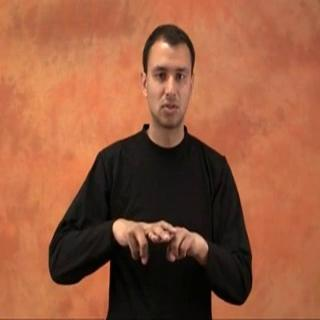chair: (110, 215, 206, 270)
